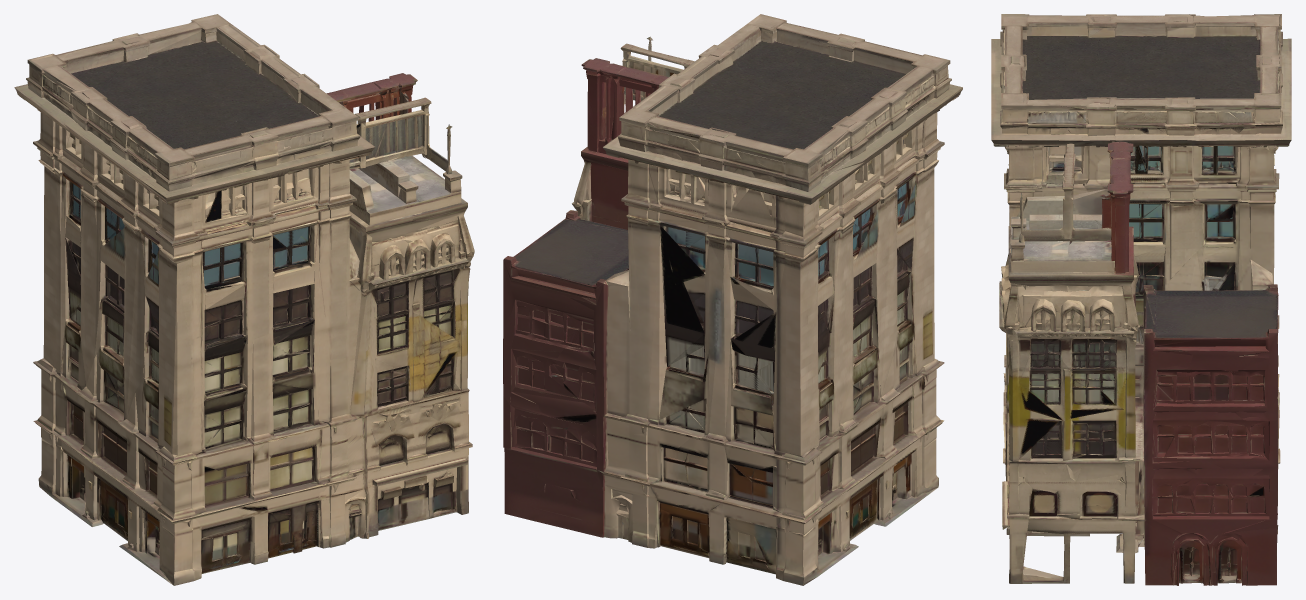
The model's file is city-offices.glb.
3 renders of one model, left to right at view 1: azimuth 30°, elevation 25°; view 2: azimuth 150°, elevation 25°; view 3: azimuth 270°, elevation 25°, orthographic.
Bounding box in the file's own units: 1.49 × 1.9 × 1.22.
Materials: 1 (1 with a texture image).
